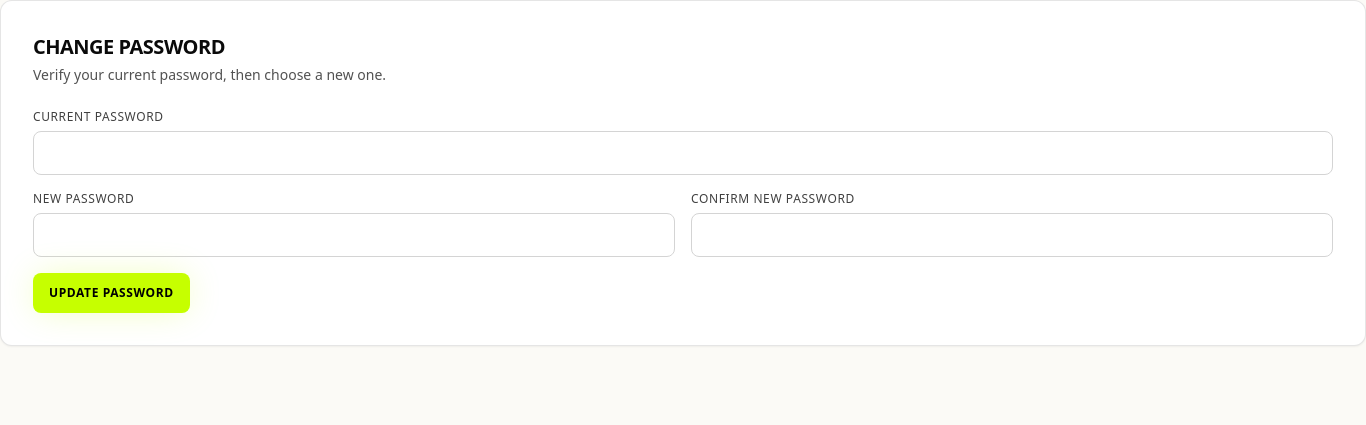
Test: ChangePasswordForm › updates the password only after verifying the current password
The image size is (1366, 425).
Type "current-pass" into the password field labelled "Current password" at coordinates (683, 153), box [33, 131, 1333, 175]
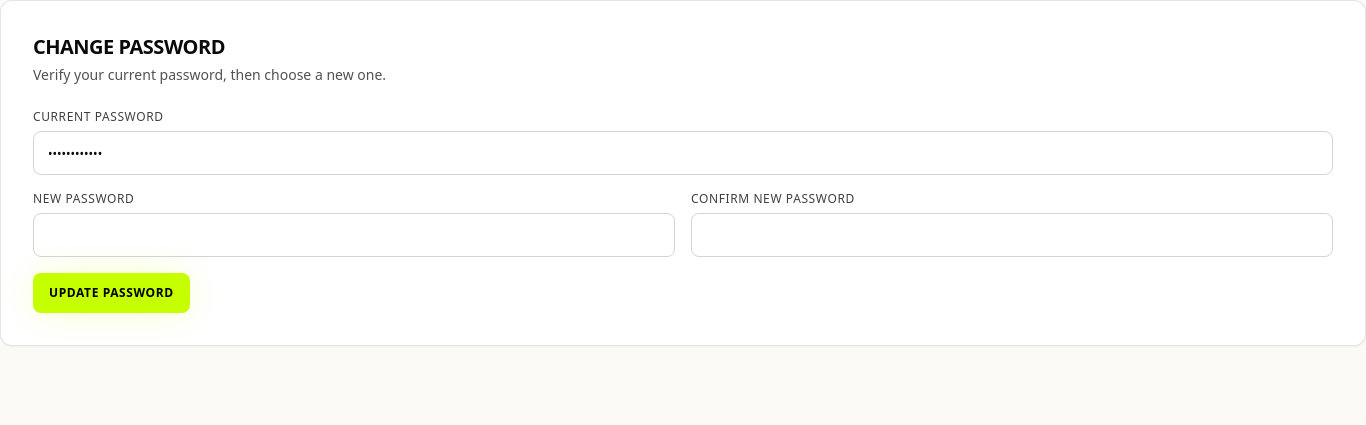
Type "replacement-pass" into the password field labelled "New password" at coordinates (354, 235), box [33, 213, 675, 257]
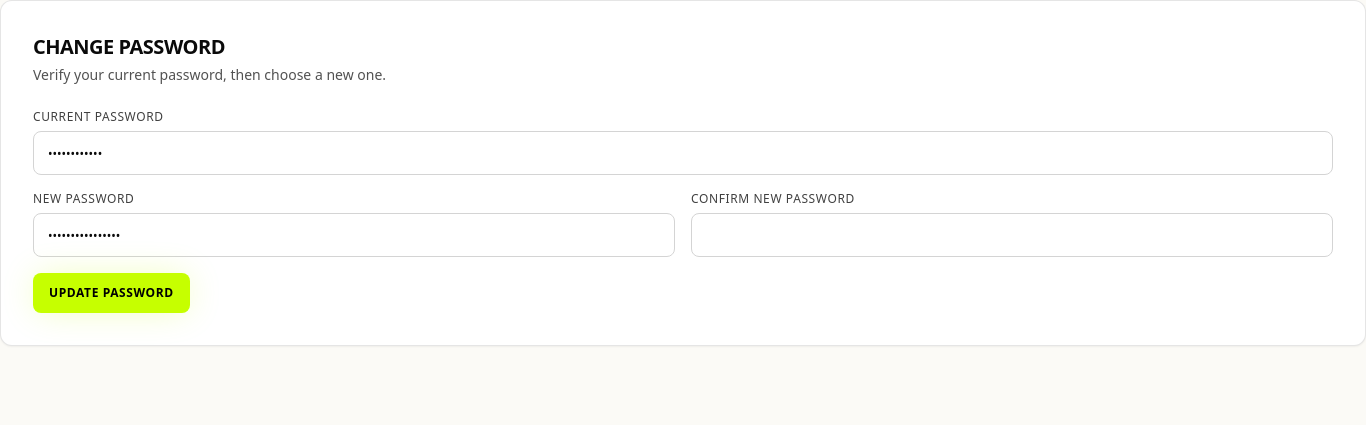
Type "replacement-pass" into the password field labelled "Confirm new password" at coordinates (1012, 235), box [691, 213, 1333, 257]
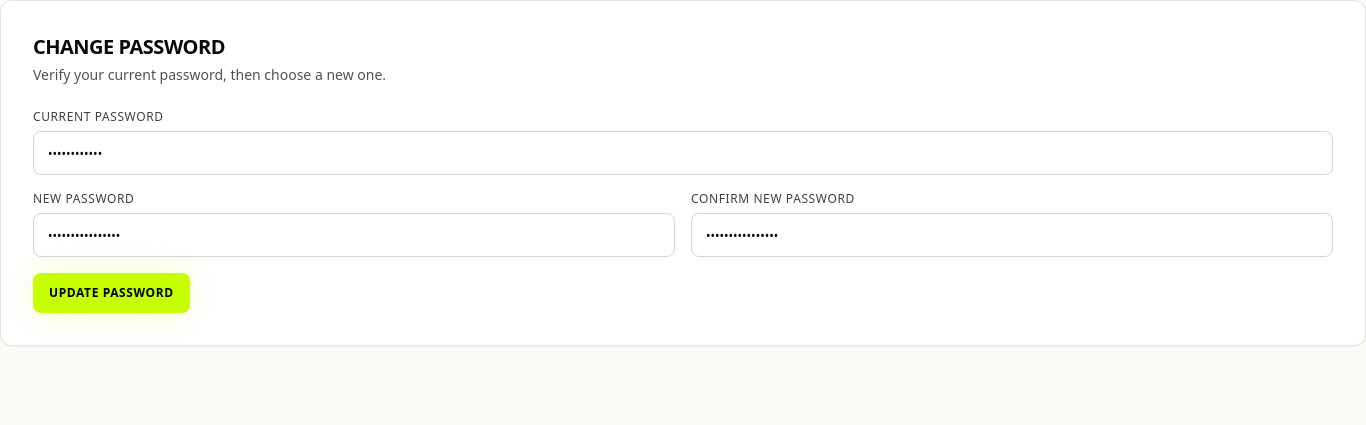
Click the button "Update password" at coordinates (111, 293), box [33, 273, 190, 313]
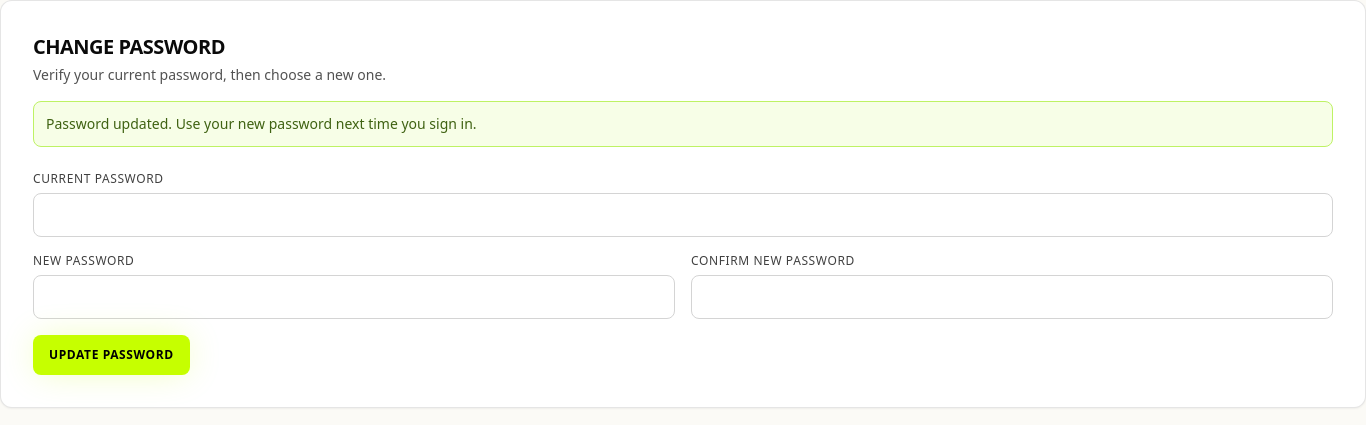
Check: the message shows "Password updated.", box [46, 114, 477, 133]
Check: the password field labelled "Current password" is empty, box [33, 193, 1333, 237]
